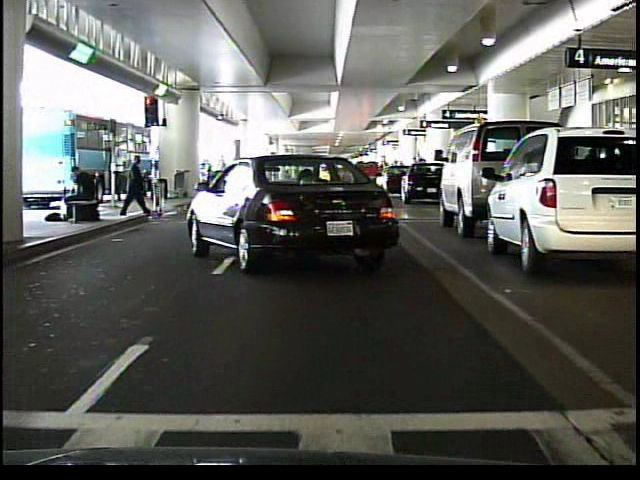person: (62, 163, 99, 229), (116, 149, 145, 216)
